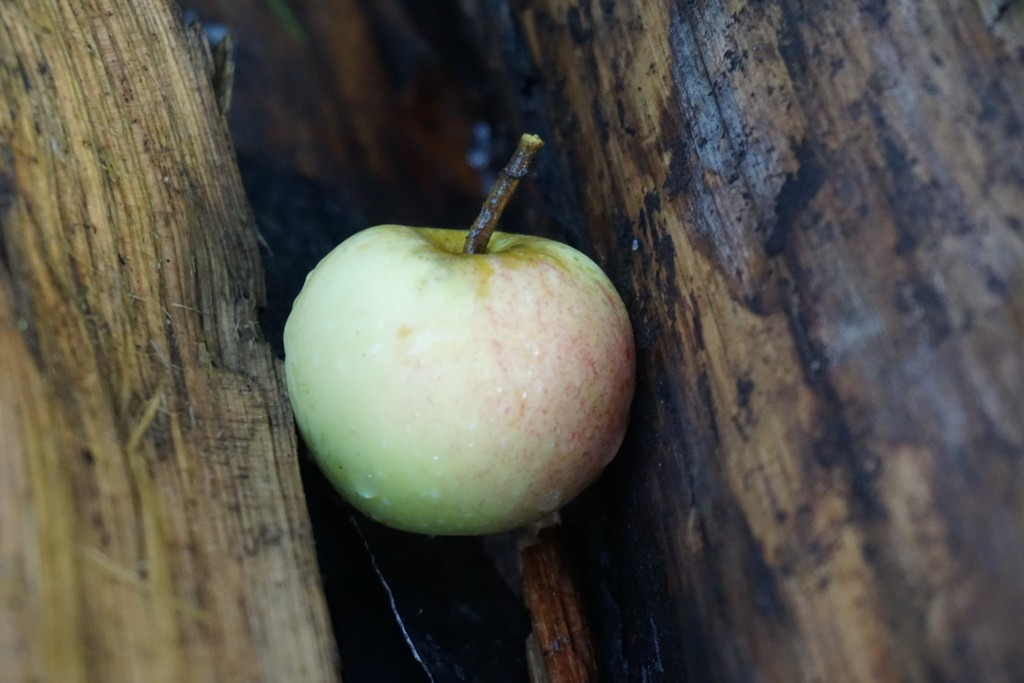Apple: (281, 170, 646, 561)
